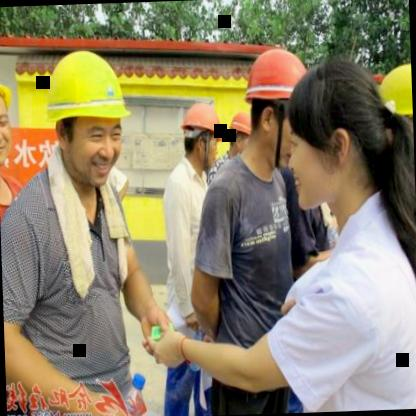helmet: (44, 50, 138, 186), (236, 45, 314, 171), (180, 101, 228, 174), (220, 110, 258, 162), (0, 64, 18, 171)
